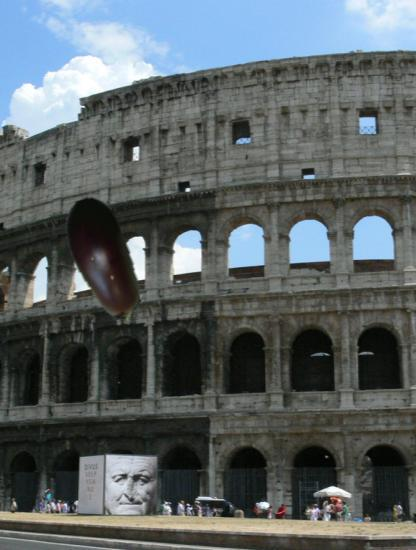Eggplant: (37, 193, 170, 326)
